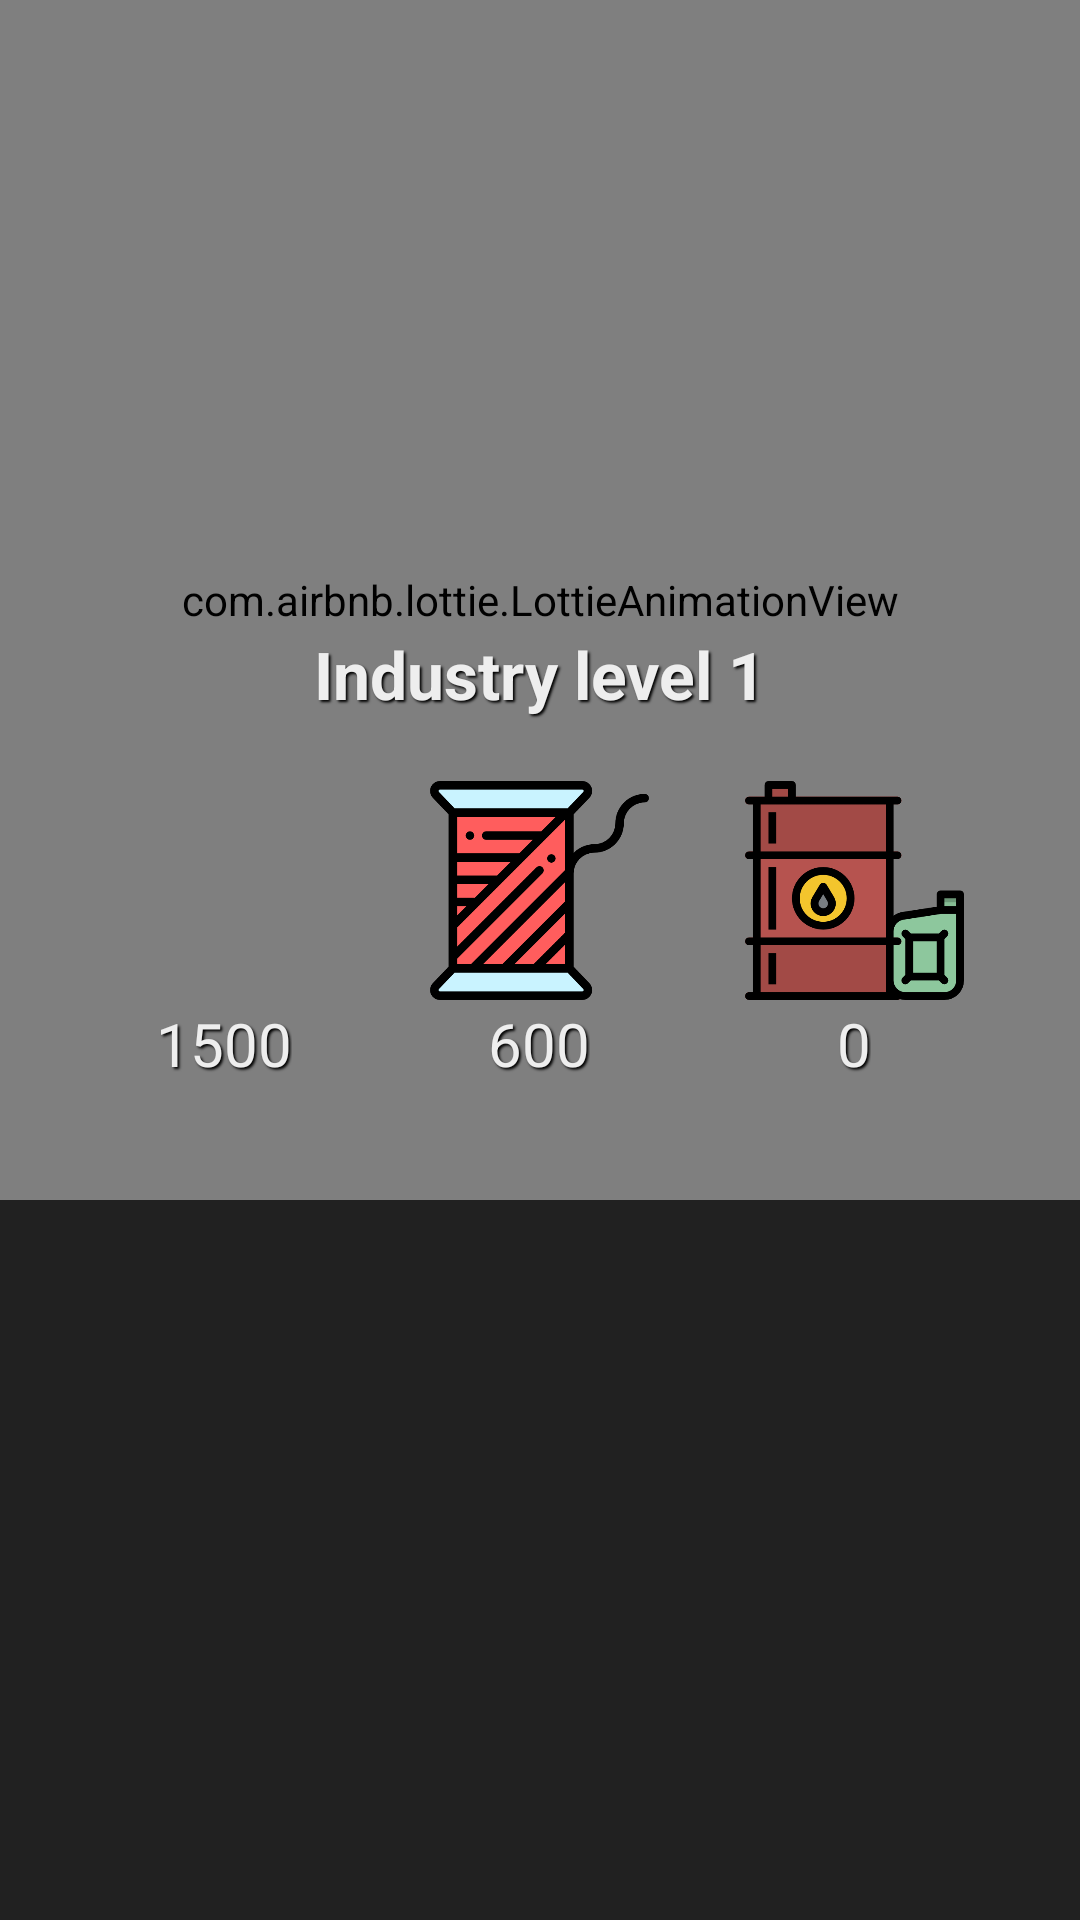

Icons on this 1080 × 1920 Android screen, each with its box as Rect(x1, y1, x2, y2):
oil: Rect(745, 781, 964, 1000)
thread: Rect(430, 781, 649, 1000)
